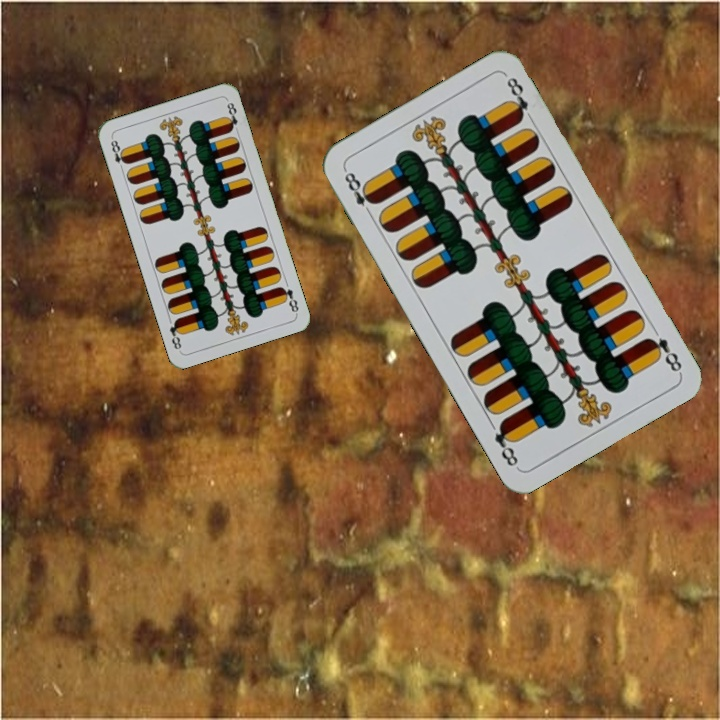E8: (340, 165, 379, 220), (642, 333, 685, 375), (276, 276, 301, 316), (107, 134, 130, 174)
